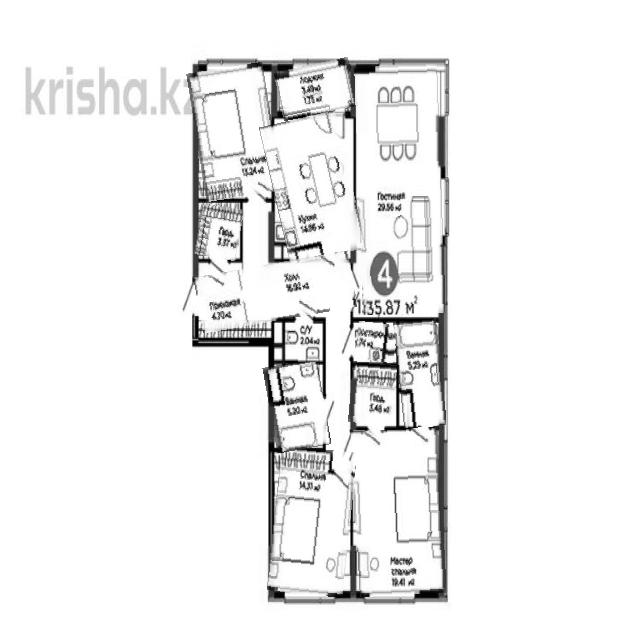balcony: (276, 60, 356, 118)
bathroom: (266, 360, 327, 451), (396, 319, 444, 428), (272, 321, 324, 362)
hallway: (195, 257, 356, 326)
kitchen: (267, 114, 359, 261)
living_room: (356, 64, 443, 315), (353, 428, 444, 596), (270, 447, 354, 597), (191, 64, 278, 200)
other: (350, 362, 396, 425), (196, 204, 242, 260), (355, 322, 396, 362)
